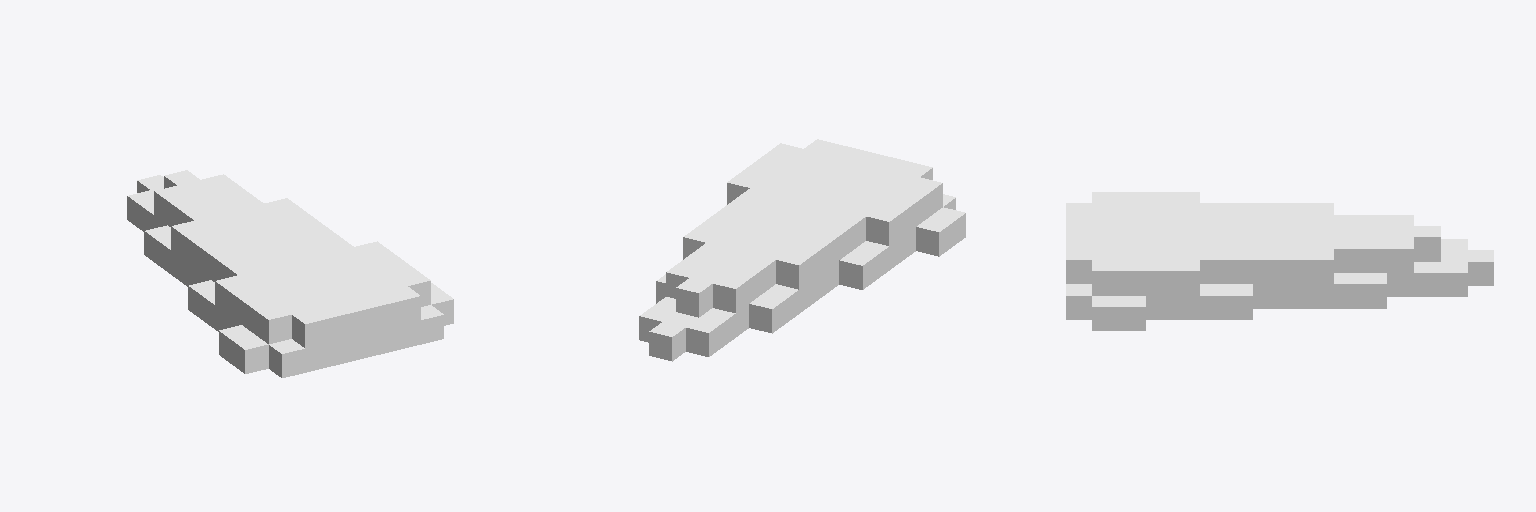
The model's file is hue_pointer.obj.
3 views of the same model, side by side, from view 1: azimuth 30°, elevation 25°; view 2: azimuth 150°, elevation 25°; view 3: azimuth 270°, elevation 25° (orthographic).
Visible parts, largest first — view 1: object 1; view 2: object 1; view 3: object 1.
Part boxes in pixels (bbox=[...]): object 1: bbox=[127, 170, 453, 377]; object 1: bbox=[639, 139, 965, 361]; object 1: bbox=[1066, 192, 1493, 330].
Size of the model in its own units: 0.9 by 0.2 by 1.6.